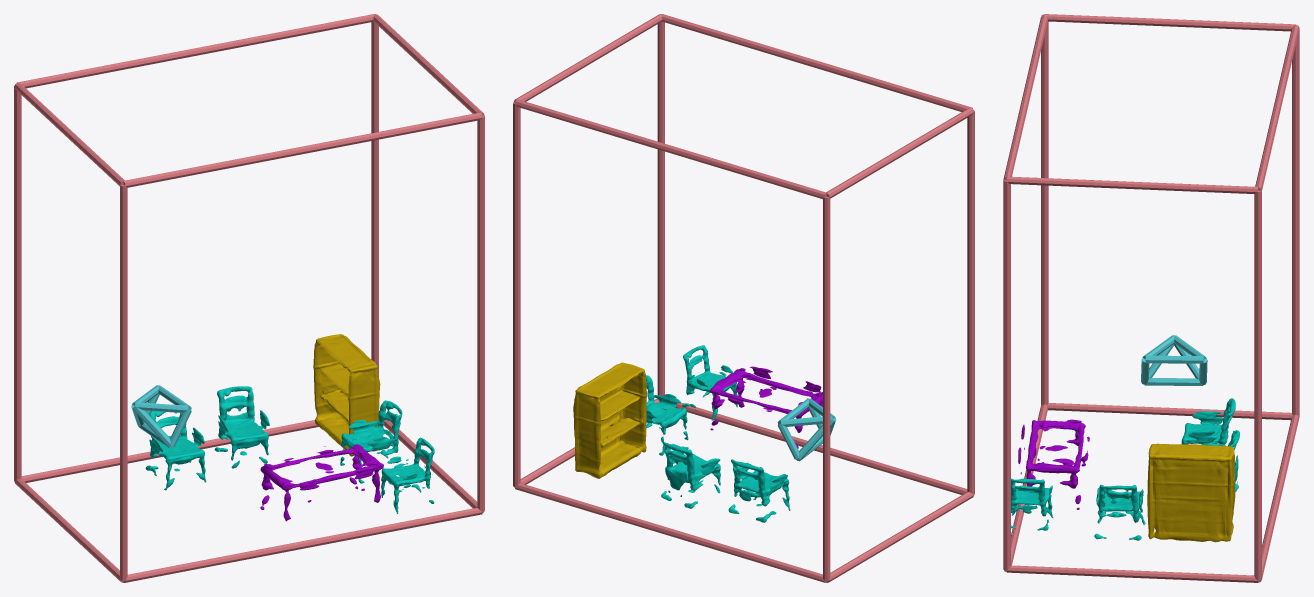
The picture shows the model from 3 angles, left to right: view 1: azimuth 30°, elevation 25°; view 2: azimuth 150°, elevation 25°; view 3: azimuth 270°, elevation 25°; orthographic projection. The views are drawn at different scales.
Visible parts, largest first — view 1: world; view 2: world; view 3: world.
Part boxes in pixels (x1=…): world: x1=14, y1=14, x2=484, y2=582; world: x1=513, y1=14, x2=974, y2=582; world: x1=1003, y1=14, x2=1299, y2=582.
Size of the model in its own units: 5.33 by 5.58 by 3.79.
